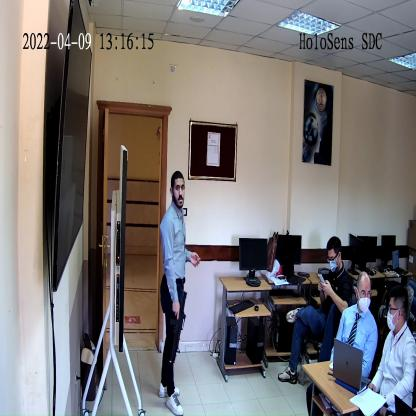handgun: (168, 288, 190, 359)
